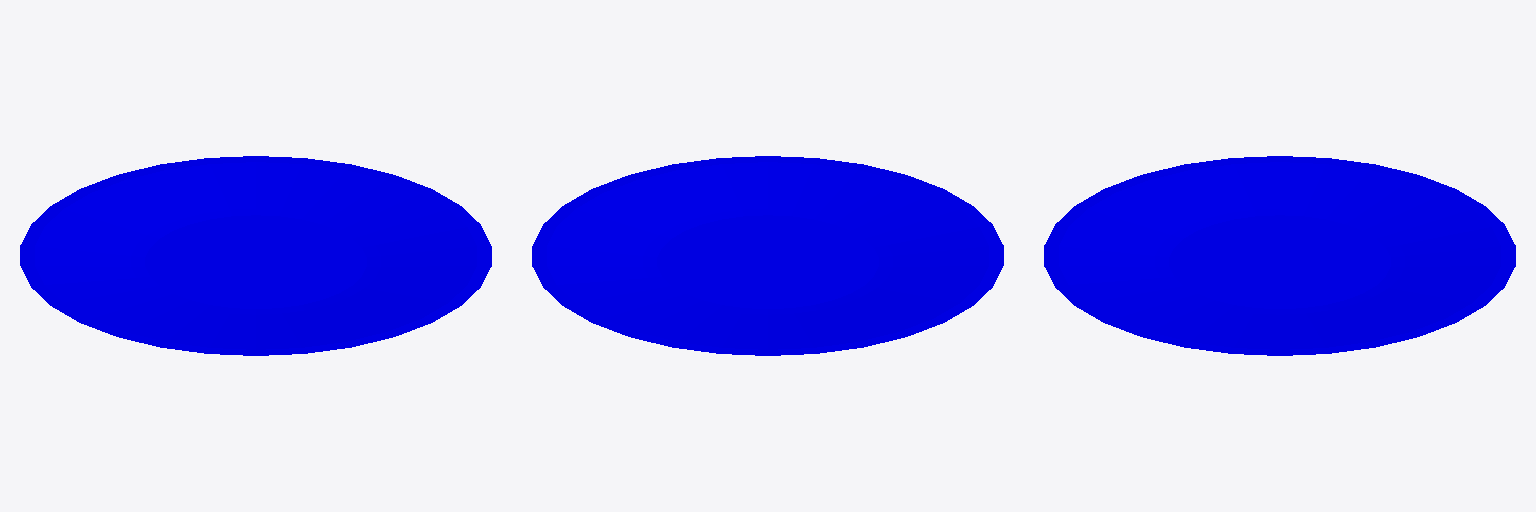
robot.urdf — cube:
<?xml version="1.0"?>
<robot name="cube">
  <!-- Frying pan model, Copyright (c) 2016 [author]       -->
  <!-- LICENSE: CC-SA                                         -->
  <link name="cube">
    <visual>
      <origin rpy="0 0 0" xyz="0 0 0"/>
      <geometry>
        <mesh filename="plate.obj" scale="1.0 1.0 .05"/>
      </geometry>
      <material name="blue">  <!-- forces it to actually use the image for its colour -->
        <color rgba="0 0 1 1"/>
      </material>
    </visual>

    <collision>  <!-- bottom -->
      <geometry>
        <cylinder radius="0.05" length="0.005"/>
      </geometry>
      <origin rpy="0 0 0" xyz="0 0 0.0025"/>
    </collision>

    <collision>
      <geometry>
        <mesh filename="plate-collision01.obj" scale="1.0 1.0 .05"/>
      </geometry>
      <origin rpy="0 0 0" xyz="0 0 0"/>
    </collision>

    <collision>
      <geometry>
        <mesh filename="plate-collision02.obj" scale="1.0 1.0 .05"/>
      </geometry>
      <origin rpy="0 0 0" xyz="0 0 0"/>
    </collision>

    <collision>
      <geometry>
        <mesh filename="plate-collision03.obj" scale="1.0 1.0 .05"/>
      </geometry>
      <origin rpy="0 0 0" xyz="0 0 0"/>
    </collision>

    <collision>
      <geometry>
        <mesh filename="plate-collision04.obj" scale="1.0 1.0 .05"/>
      </geometry>
      <origin rpy="0 0 0" xyz="0 0 0"/>
    </collision>

    <collision>
      <geometry>
        <mesh filename="plate-collision05.obj" scale="1.0 1.0 .05"/>
      </geometry>
      <origin rpy="0 0 0" xyz="0 0 0"/>
    </collision>

    <collision>
      <geometry>
        <mesh filename="plate-collision06.obj" scale="1.0 1.0 .1"/>
      </geometry>
      <origin rpy="0 0 0" xyz="0 0 0"/>
    </collision>

    <inertial>
      <mass value="0.1"/>  <!-- mr^2 = 0.5*0.12^2 = 0.0072 for Z axis, lighter along other axis -->
      <inertia ixx="0.005" iyy="0.005" izz="0.0072"/>
    </inertial>
  </link>

</robot>

--- Render facts (derived) ---
3 views of the same robot in one strip: view 1: azimuth 30°, elevation 25°; view 2: azimuth 150°, elevation 25°; view 3: azimuth 270°, elevation 25° (orthographic).
Model cube with 1 links and 0 joints (none), rooted at cube, posed all joints at 0.
Links seen in each view (by area): view 1: cube; view 2: cube; view 3: cube.
Link boxes in pixels (x1,y1,x2,y2): cube: (20,156,491,355); cube: (532,156,1003,355); cube: (1044,156,1515,355).
Size in the robot's own frame: 0.196 by 0.1949 by 0.003 metres.
Meshes: 1 distinct files referenced, 1 mesh visuals loaded (1 OBJ).